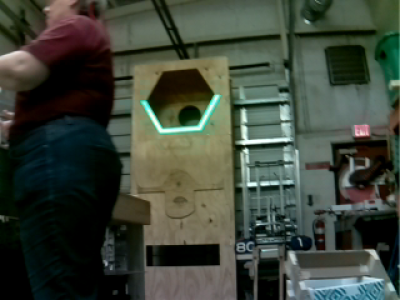target: (139, 95, 220, 133)
